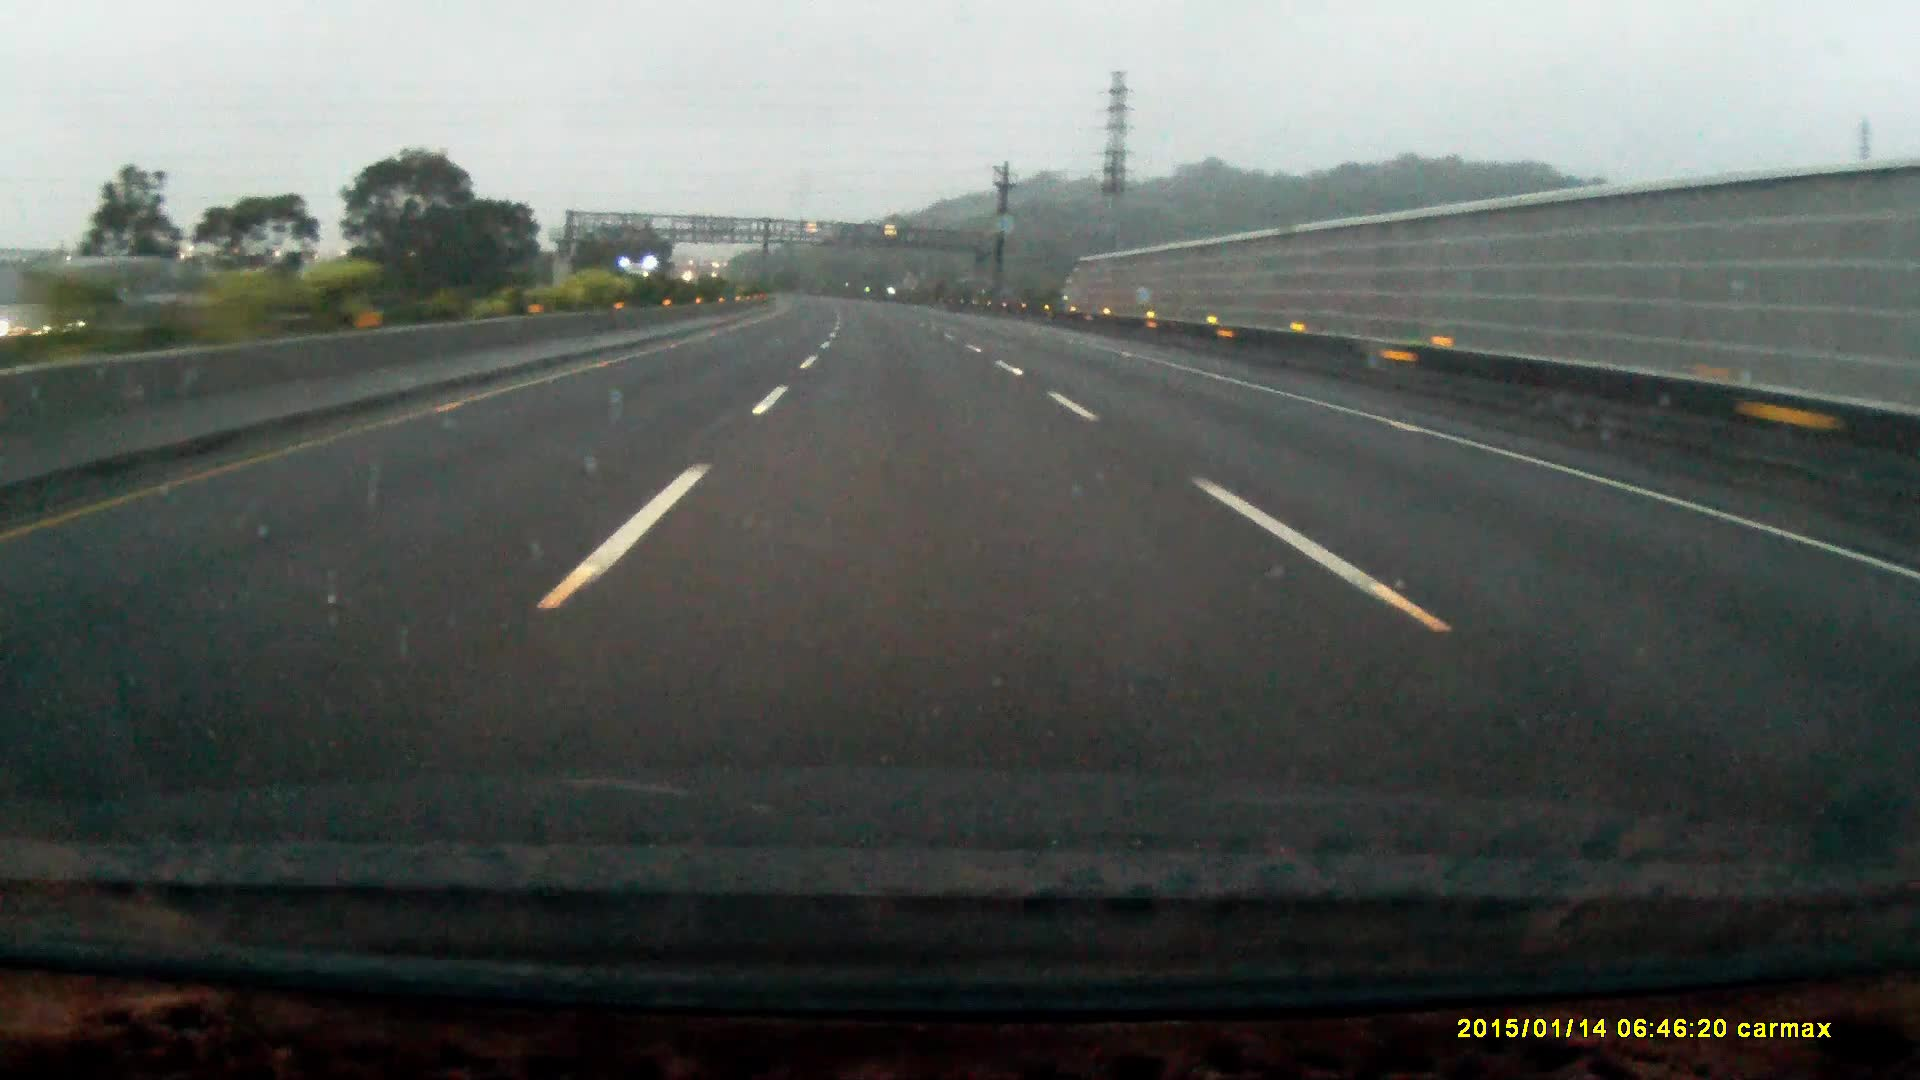vehicle: (621, 261, 665, 310)
